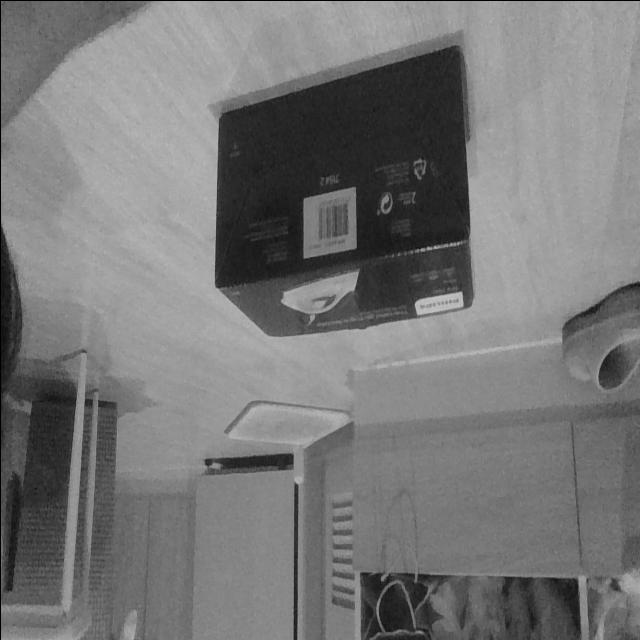IRON: (212, 41, 476, 341)
